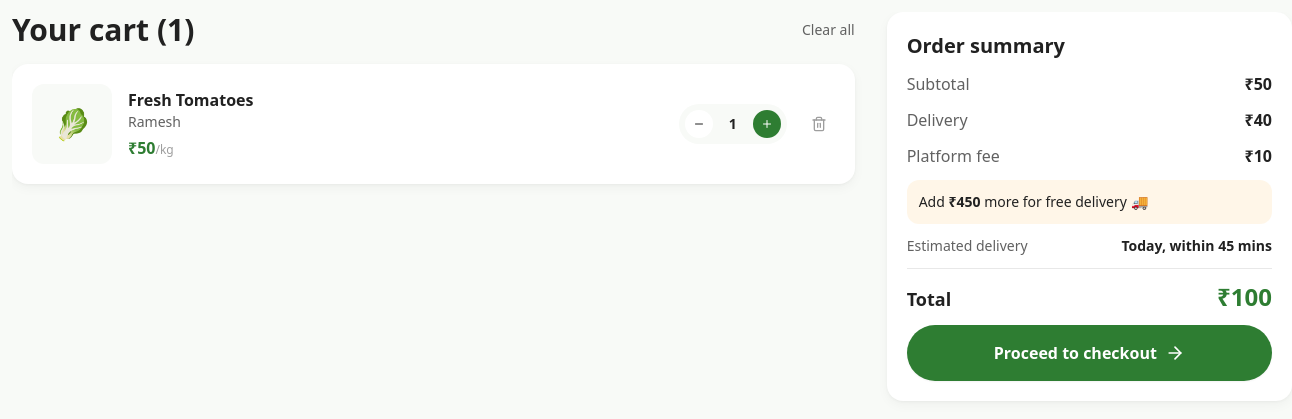
Scenario: CartPage — Quantity controls › removes item when quantity goes to 0
The width and height of the screenshot is (1292, 419).
Click the button with test id "qty-decrease". click: [699, 124]
box: [685, 110, 713, 138]
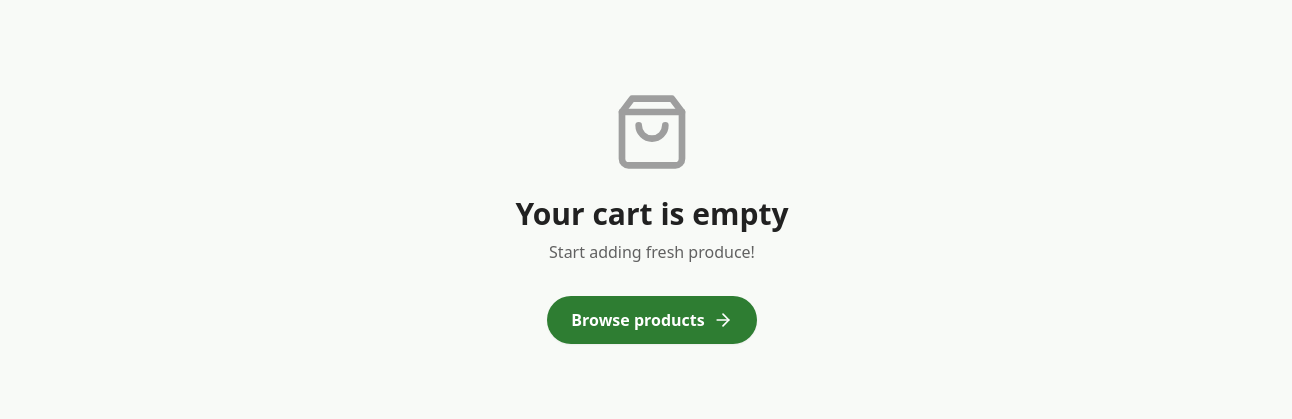
Result: the element with test id "cart-item" is gone
